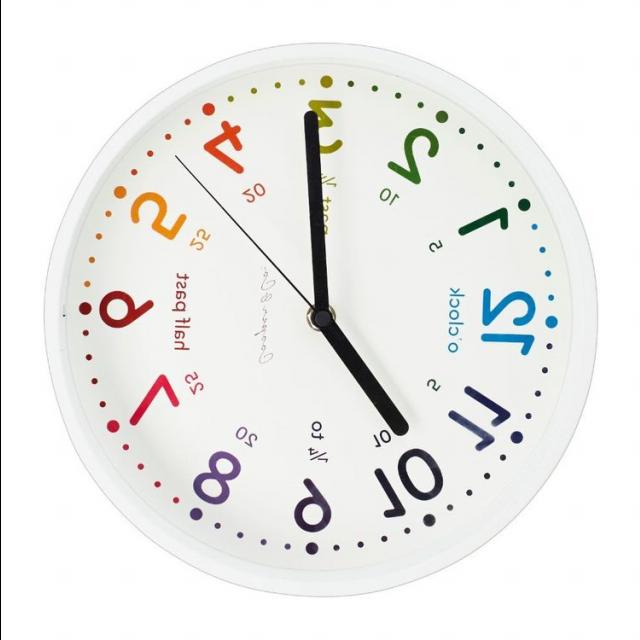clock: (36, 39, 630, 558)
